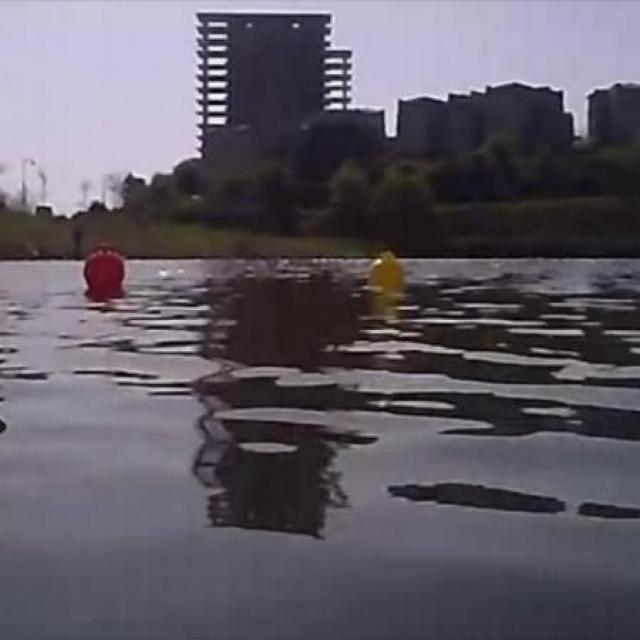buoy: (82, 247, 126, 291), (368, 250, 406, 288)
